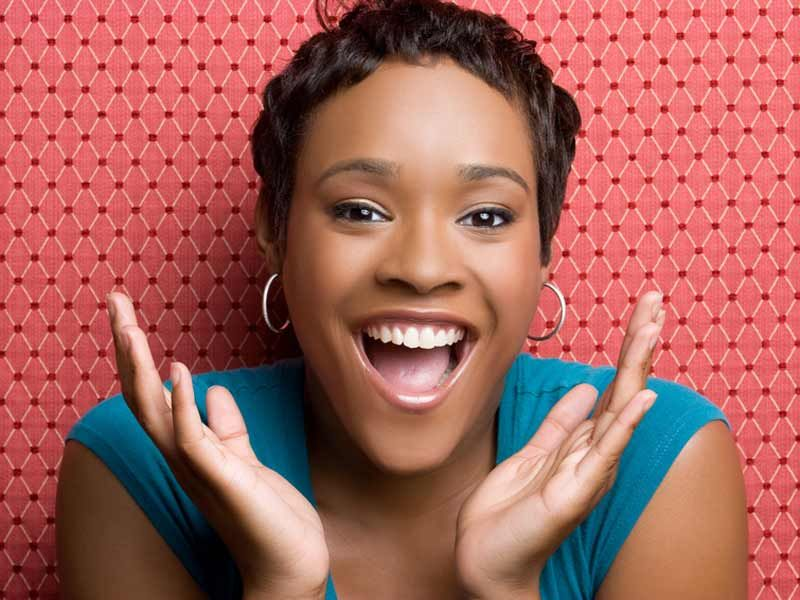without_mask: (292, 78, 543, 493)
